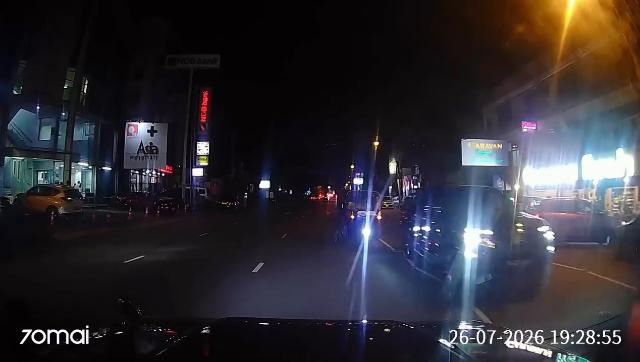illegal overtaking: (335, 180, 391, 255)
